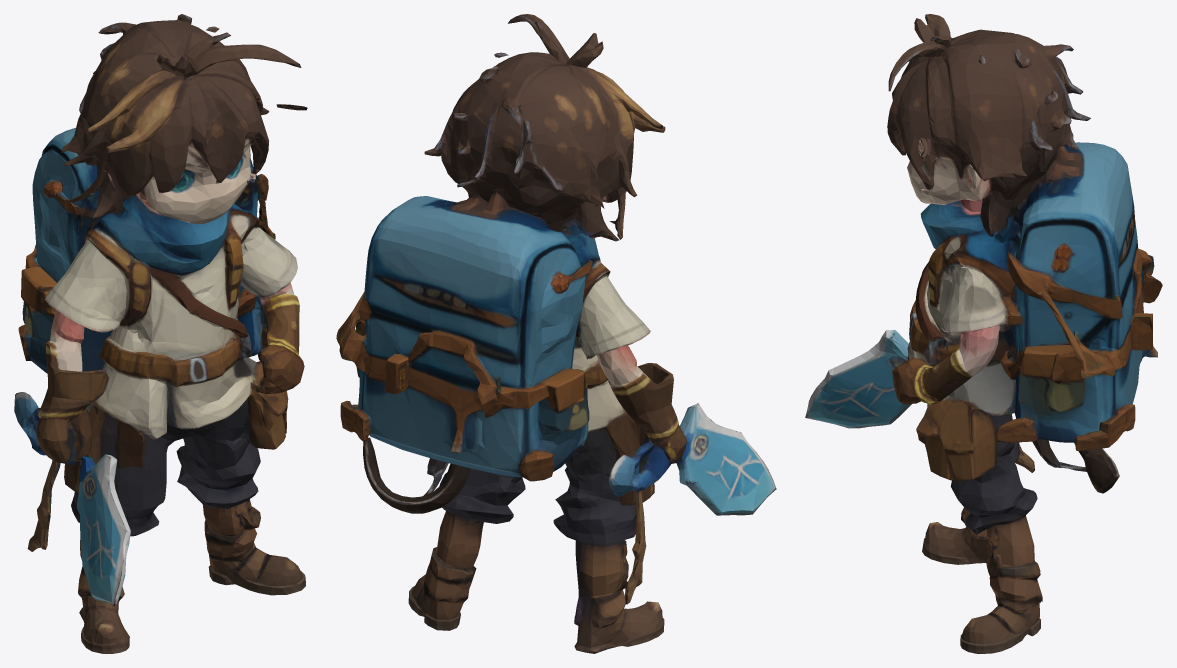
Rendered from 3D_Model_Preview.glb.
3 renders of one model, left to right at view 1: azimuth 30°, elevation 25°; view 2: azimuth 150°, elevation 25°; view 3: azimuth 270°, elevation 25°, orthographic. The views are drawn at different scales.
Visible parts, largest first — view 1: world; view 2: world; view 3: world.
Part boxes in pixels (x1=…): world: x1=14, y1=14, x2=307, y2=653; world: x1=336, y1=14, x2=776, y2=653; world: x1=805, y1=14, x2=1162, y2=653.
Bounding box in the file's own units: 0.5347 × 0.9906 × 0.5628.
1 material, 1 textured.
